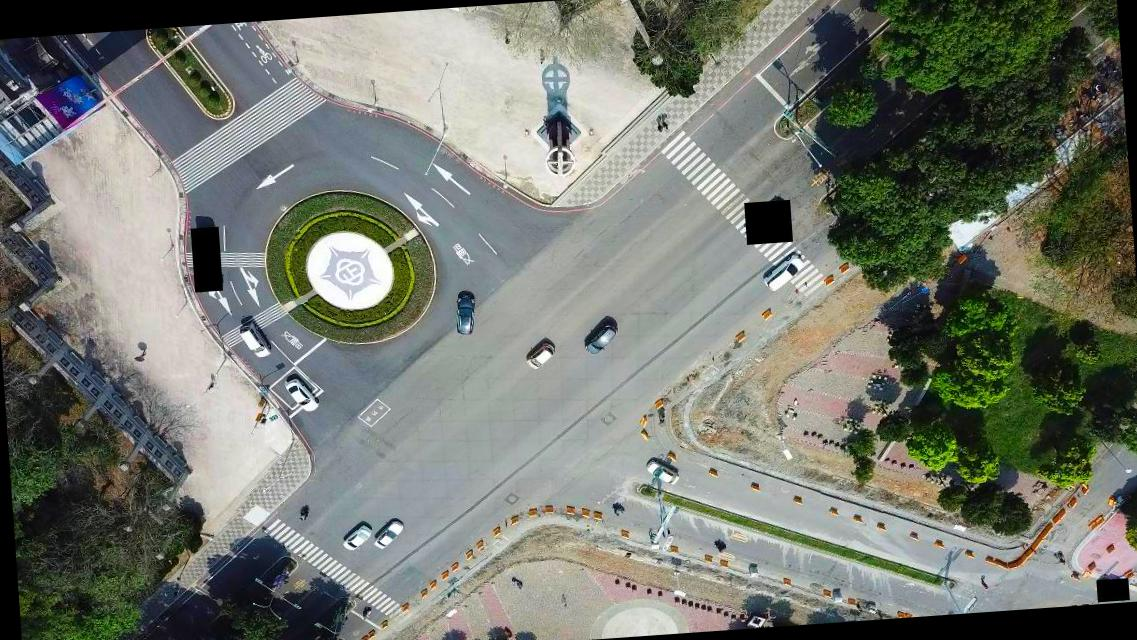vehicle: (762, 254, 804, 294), (284, 375, 320, 413), (238, 321, 272, 360), (582, 320, 618, 355), (372, 519, 406, 550), (453, 294, 477, 336), (524, 340, 556, 370), (340, 522, 372, 552), (646, 458, 679, 486)
